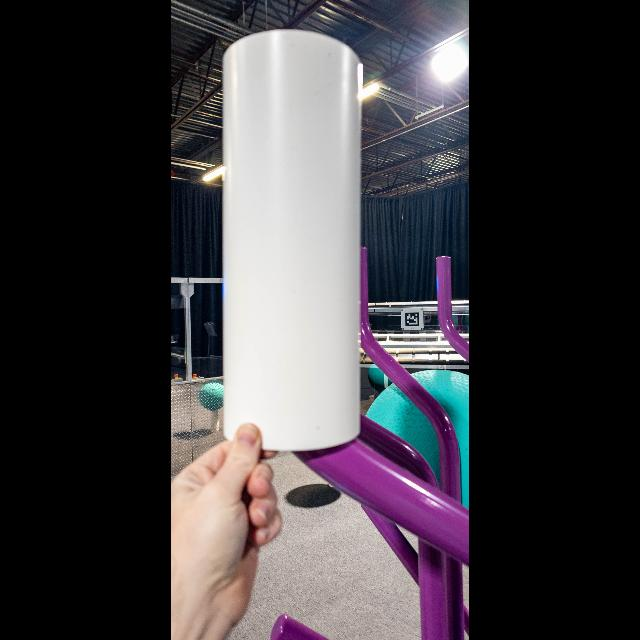ALGAE: (365, 370, 469, 512)
CORAL: (225, 29, 363, 451)
